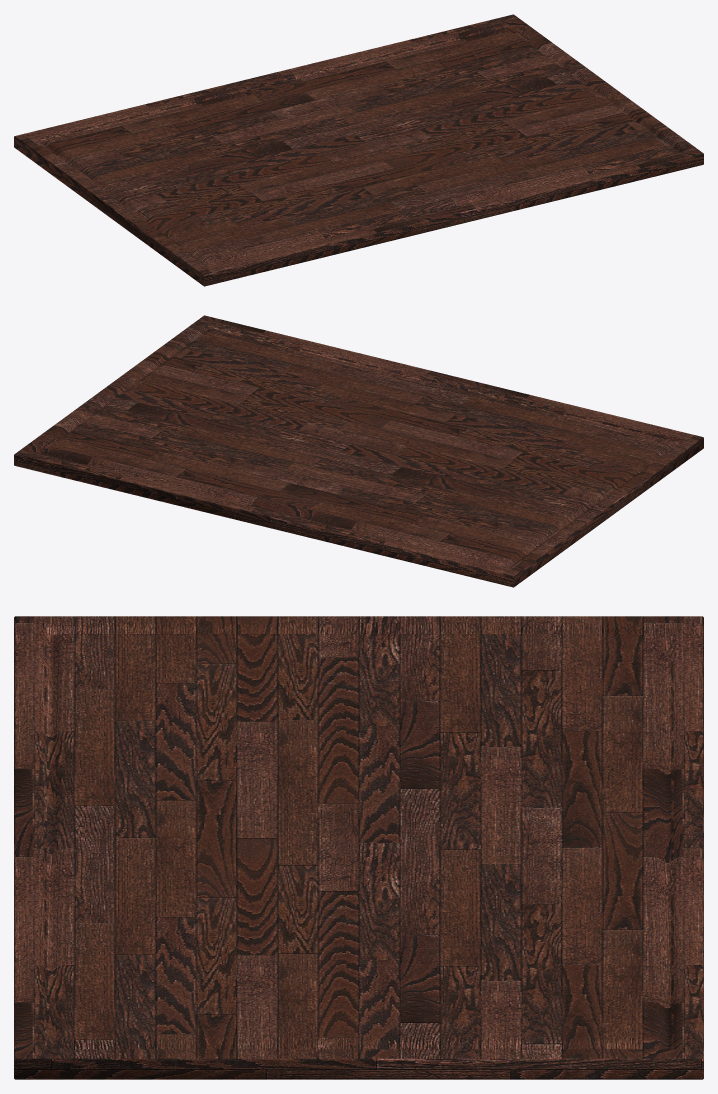
Rendered from Cutting Board.obj.
3 views of the same model, one above another, from view 1: azimuth 30°, elevation 25°; view 2: azimuth 150°, elevation 25°; view 3: azimuth 270°, elevation 25° (orthographic). The views are drawn at different scales.
Parts seen in each view (by area): view 1: Box001; view 2: Box001; view 3: Box001.
Boxes of the visible parts, <box> form: Box001: <box>14,14,703,286</box>; Box001: <box>14,315,703,587</box>; Box001: <box>14,616,703,1079</box>.
Size of the model in its own units: 105 by 2.47 by 68.86.
